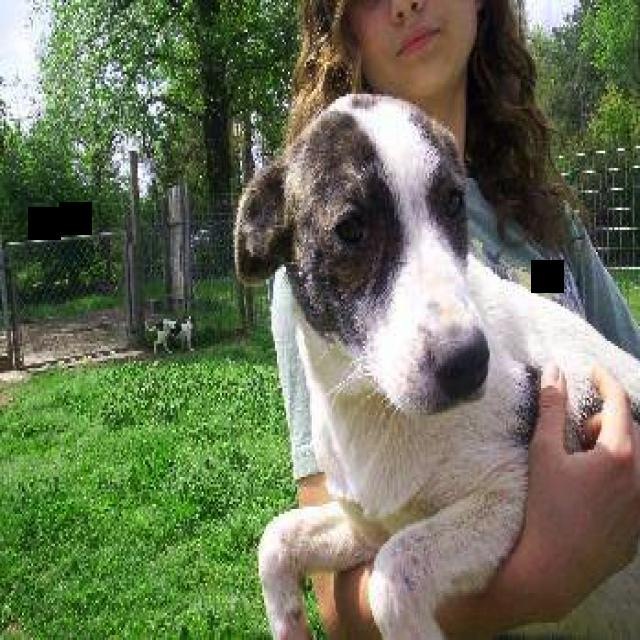non-dog: (268, 1, 640, 637)
puppy-dog: (230, 87, 639, 640)
